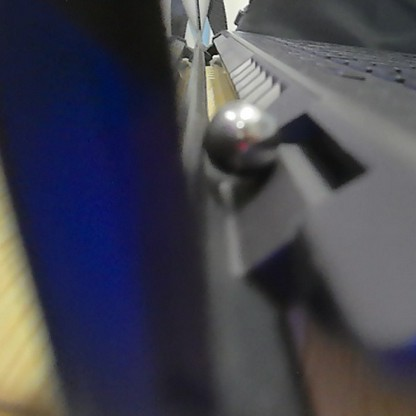ironball: (203, 100, 279, 178)
